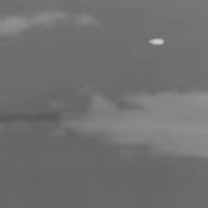Target: (148, 37, 165, 46)
